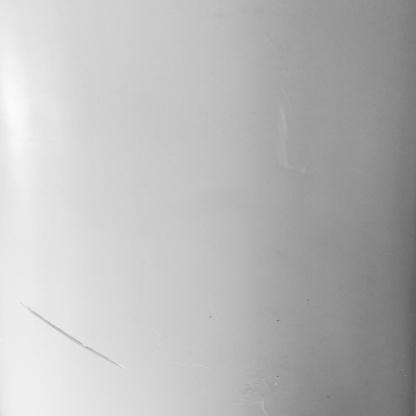sunshang: (18, 295, 127, 370)
